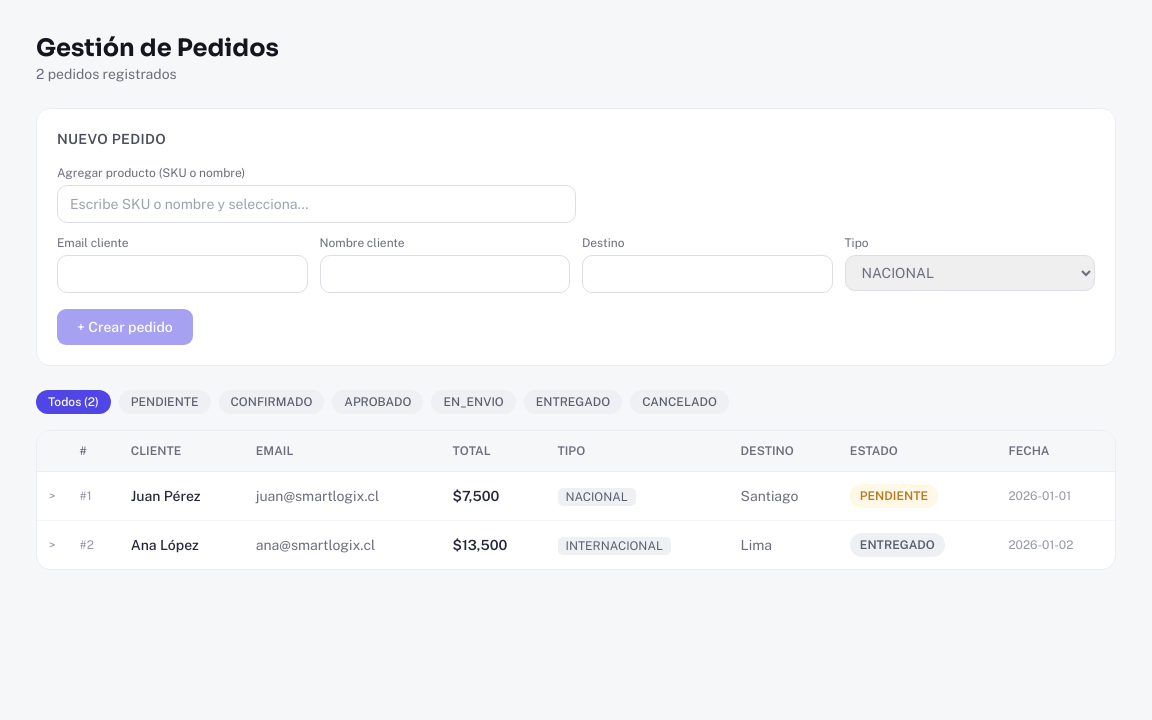
Test case: Pedidos › adds a picked product to the cart and computes the total
Expected: the text "Juan Pérez" is shown, left=119, top=472, right=244, bottom=520
Type "caja" into the field with placeholder "Escribe SKU o nombre y selecciona..." at (316, 204), box left=57, top=185, right=576, bottom=223
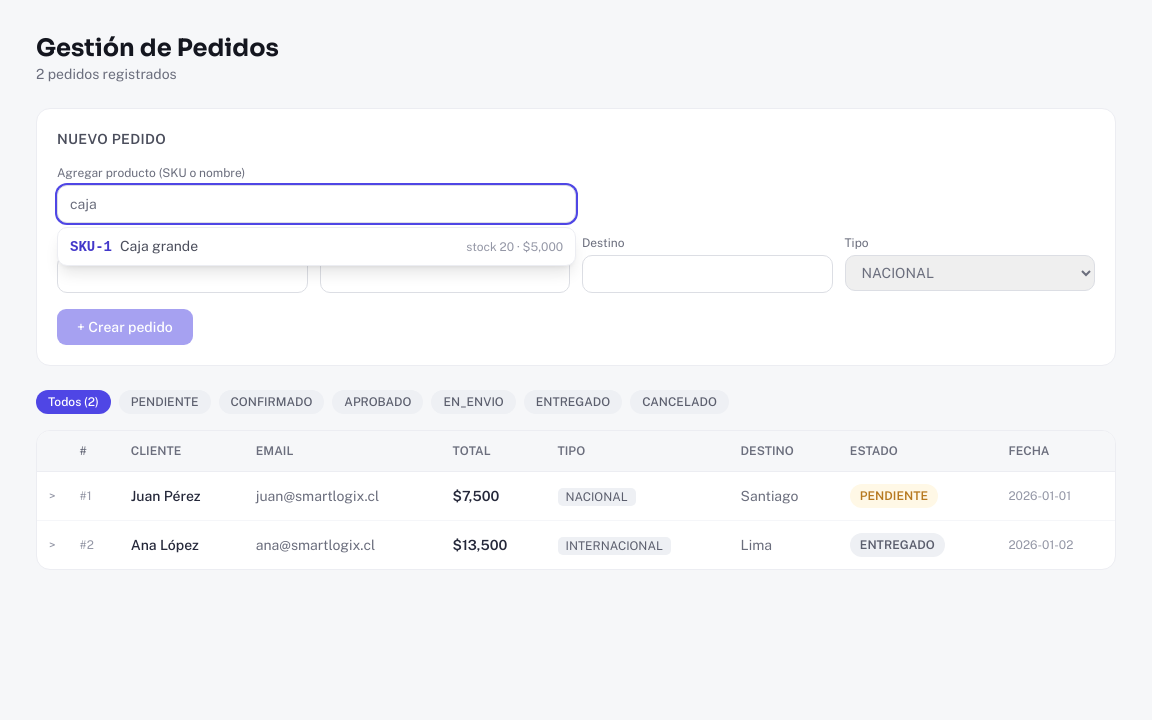
Click the text "Caja grande" at (159, 246), box left=120, top=238, right=198, bottom=254
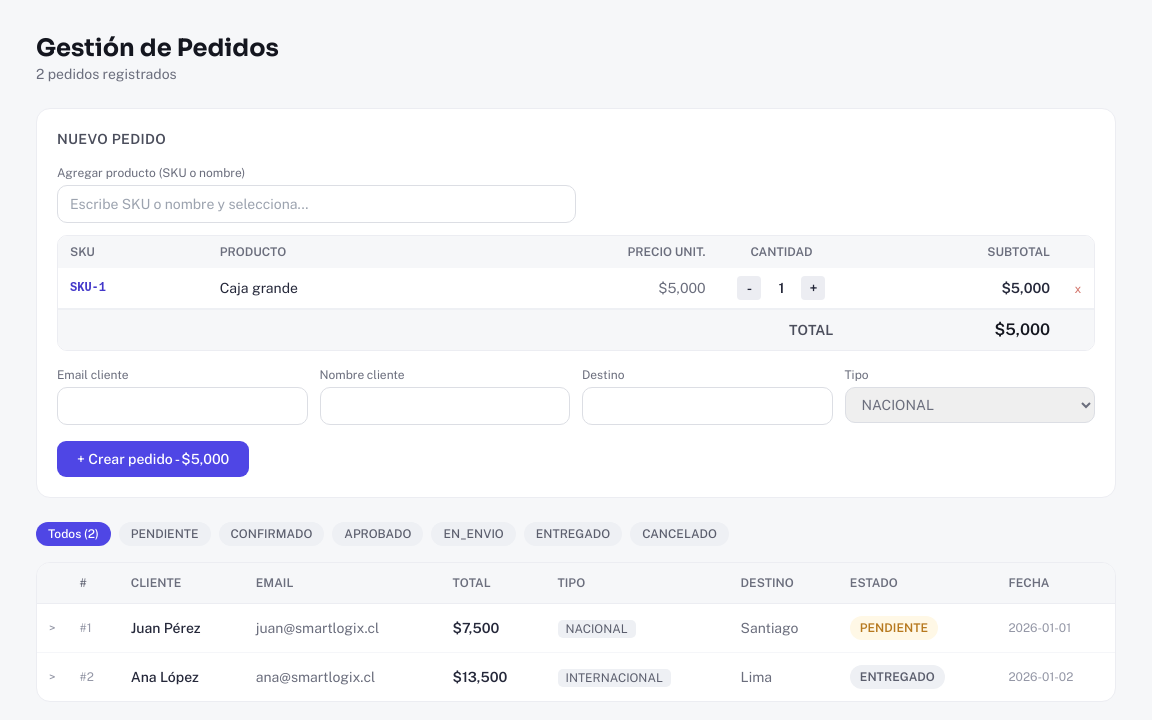
Expected: the text "TOTAL" is shown, left=58, top=309, right=846, bottom=350
